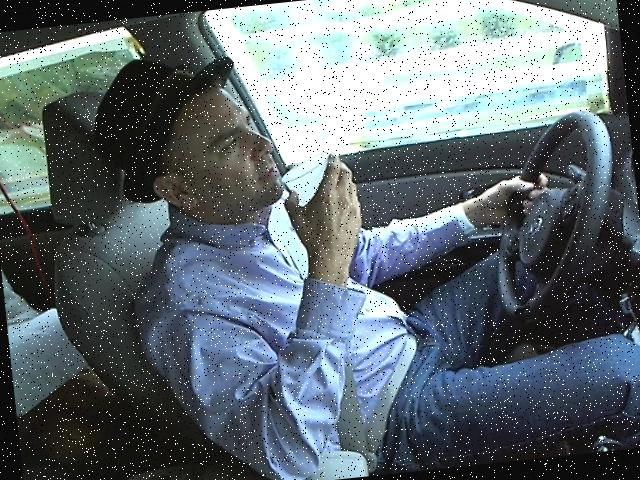c4 - Drinking: (66, 0, 639, 479)
